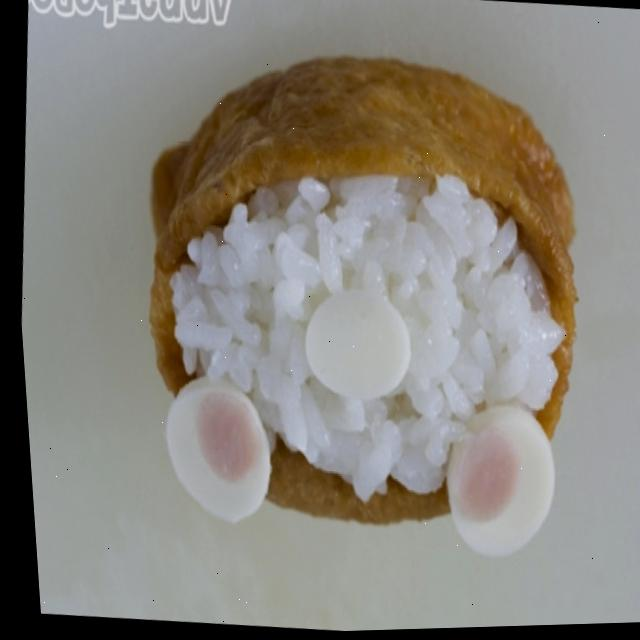寿司卷物: (97, 39, 607, 575)
